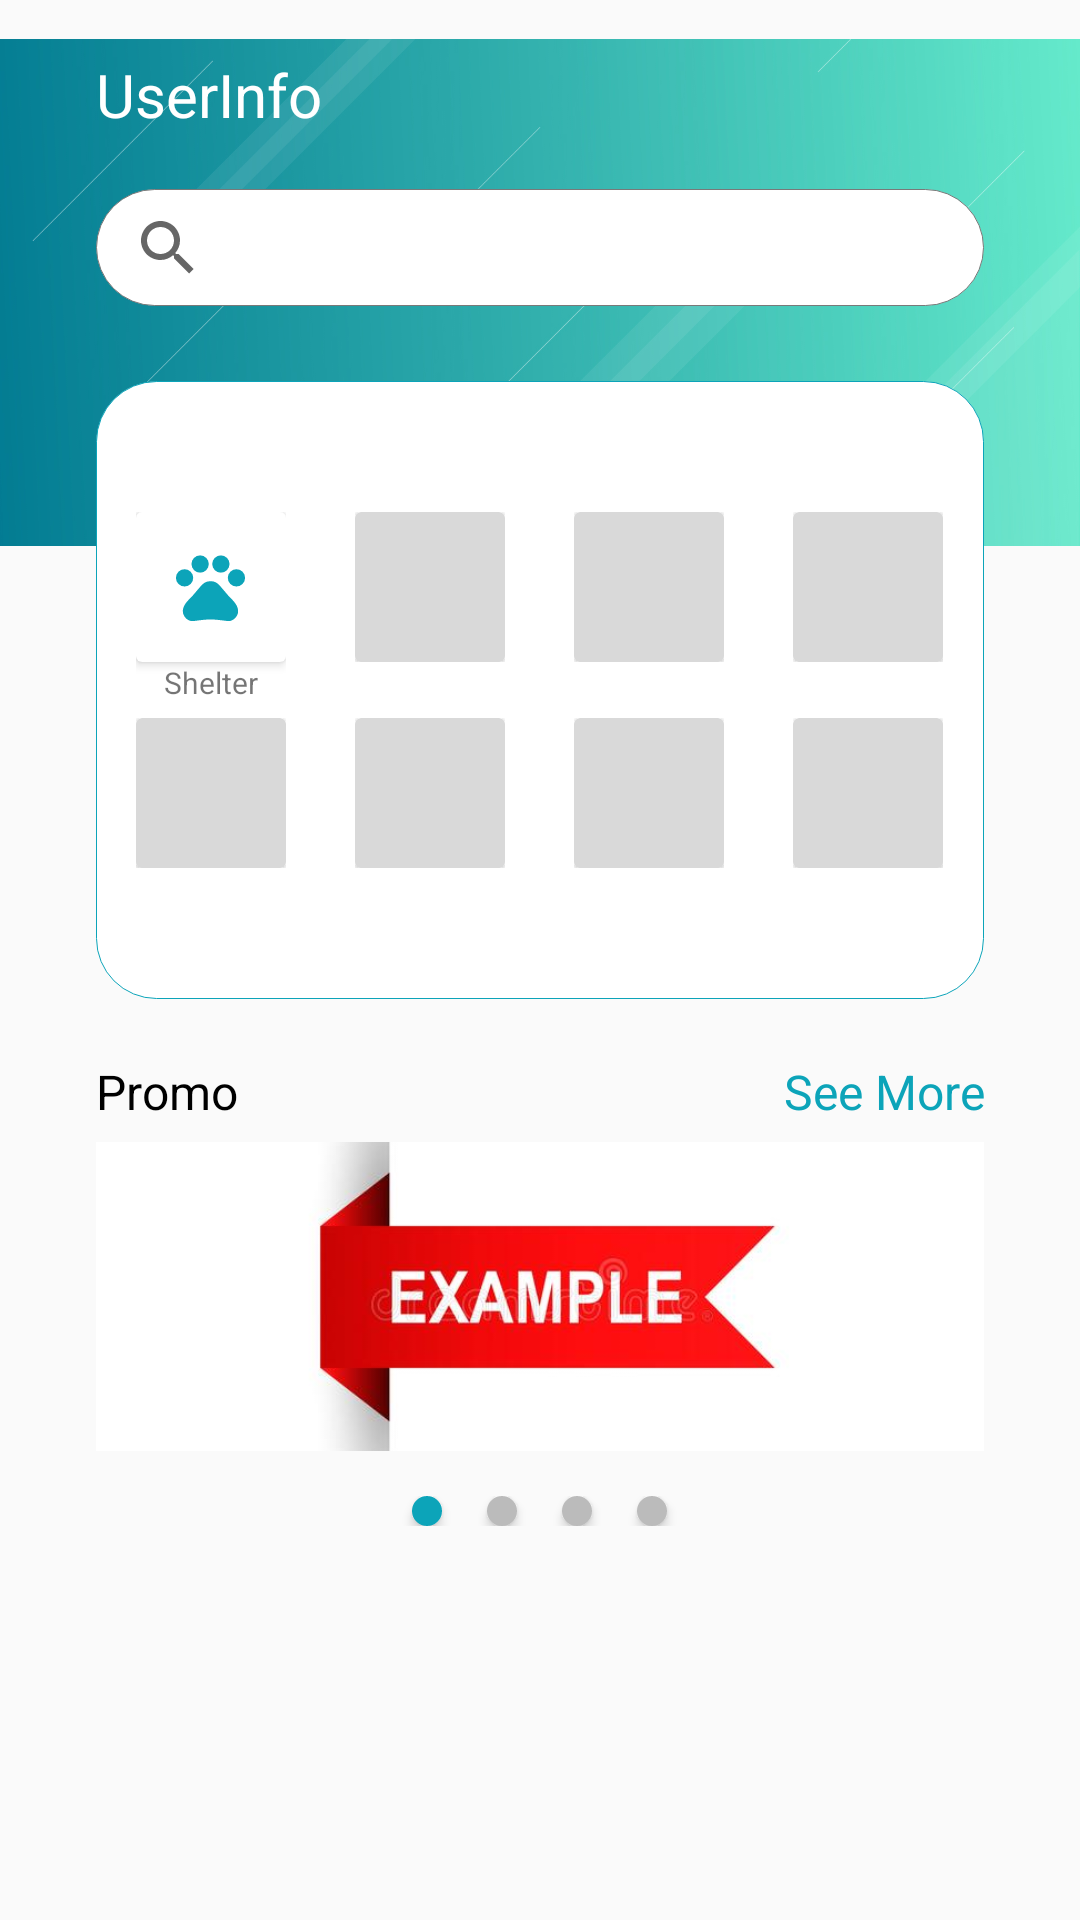

Where to tap for icons on this 1080px x 1920px app screen, as (x,y):
pets: (210,588)
